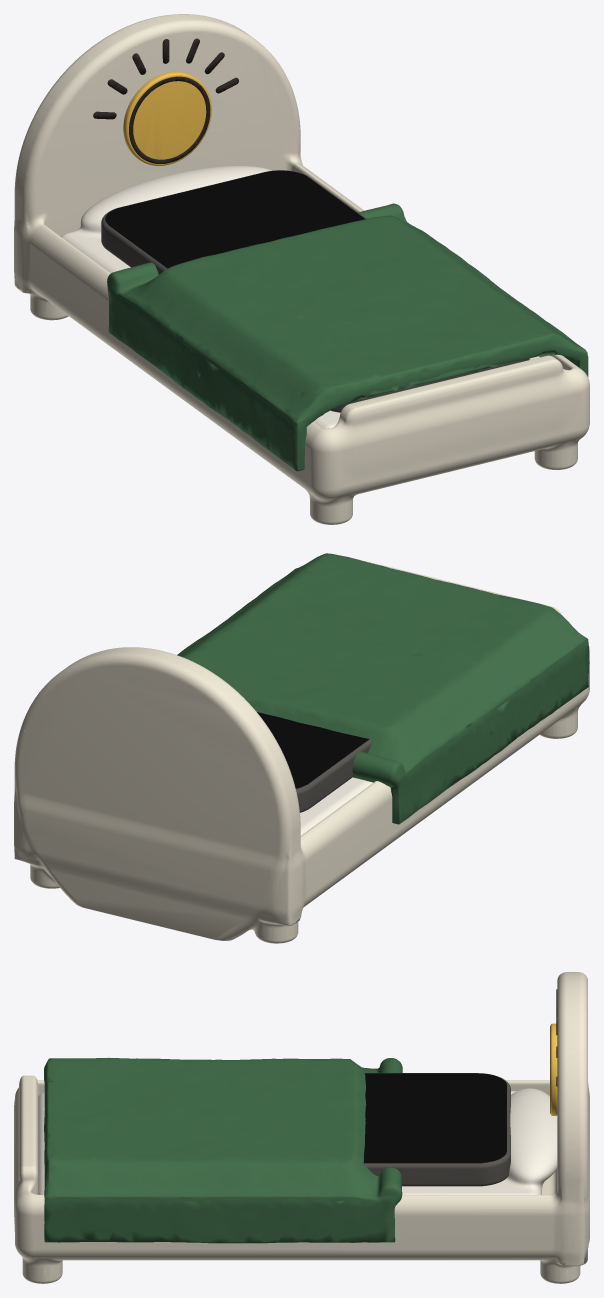
The model's file is bunk.glb.
3 renders of one model, top to bottom at view 1: azimuth 30°, elevation 25°; view 2: azimuth 150°, elevation 25°; view 3: azimuth 270°, elevation 25°, orthographic. The views are drawn at different scales.
Visible parts, largest first — view 1: bunk-frame, bunk-blanket, phone-screen, phone-frame; view 2: bunk-frame, bunk-blanket, phone-screen, phone-frame; view 3: bunk-blanket, bunk-frame, phone-screen, phone-frame.
Part boxes in pixels (box(x1,y1,x2,y2)): bunk-frame: box(14, 14, 589, 524); bunk-blanket: box(107, 203, 588, 471); phone-screen: box(105, 170, 364, 268); phone-frame: box(101, 170, 529, 412); bunk-frame: box(14, 558, 589, 943); bunk-blanket: box(177, 553, 589, 824); phone-screen: box(257, 712, 369, 788); phone-frame: box(296, 739, 371, 812); bunk-blanket: box(44, 1057, 402, 1243); bunk-frame: box(14, 972, 589, 1283); phone-screen: box(363, 1073, 506, 1163); phone-frame: box(363, 1073, 510, 1186).
Size of the model in its own units: 0.1018 by 0.0876 by 0.1869.
5 materials, 5 textured.
